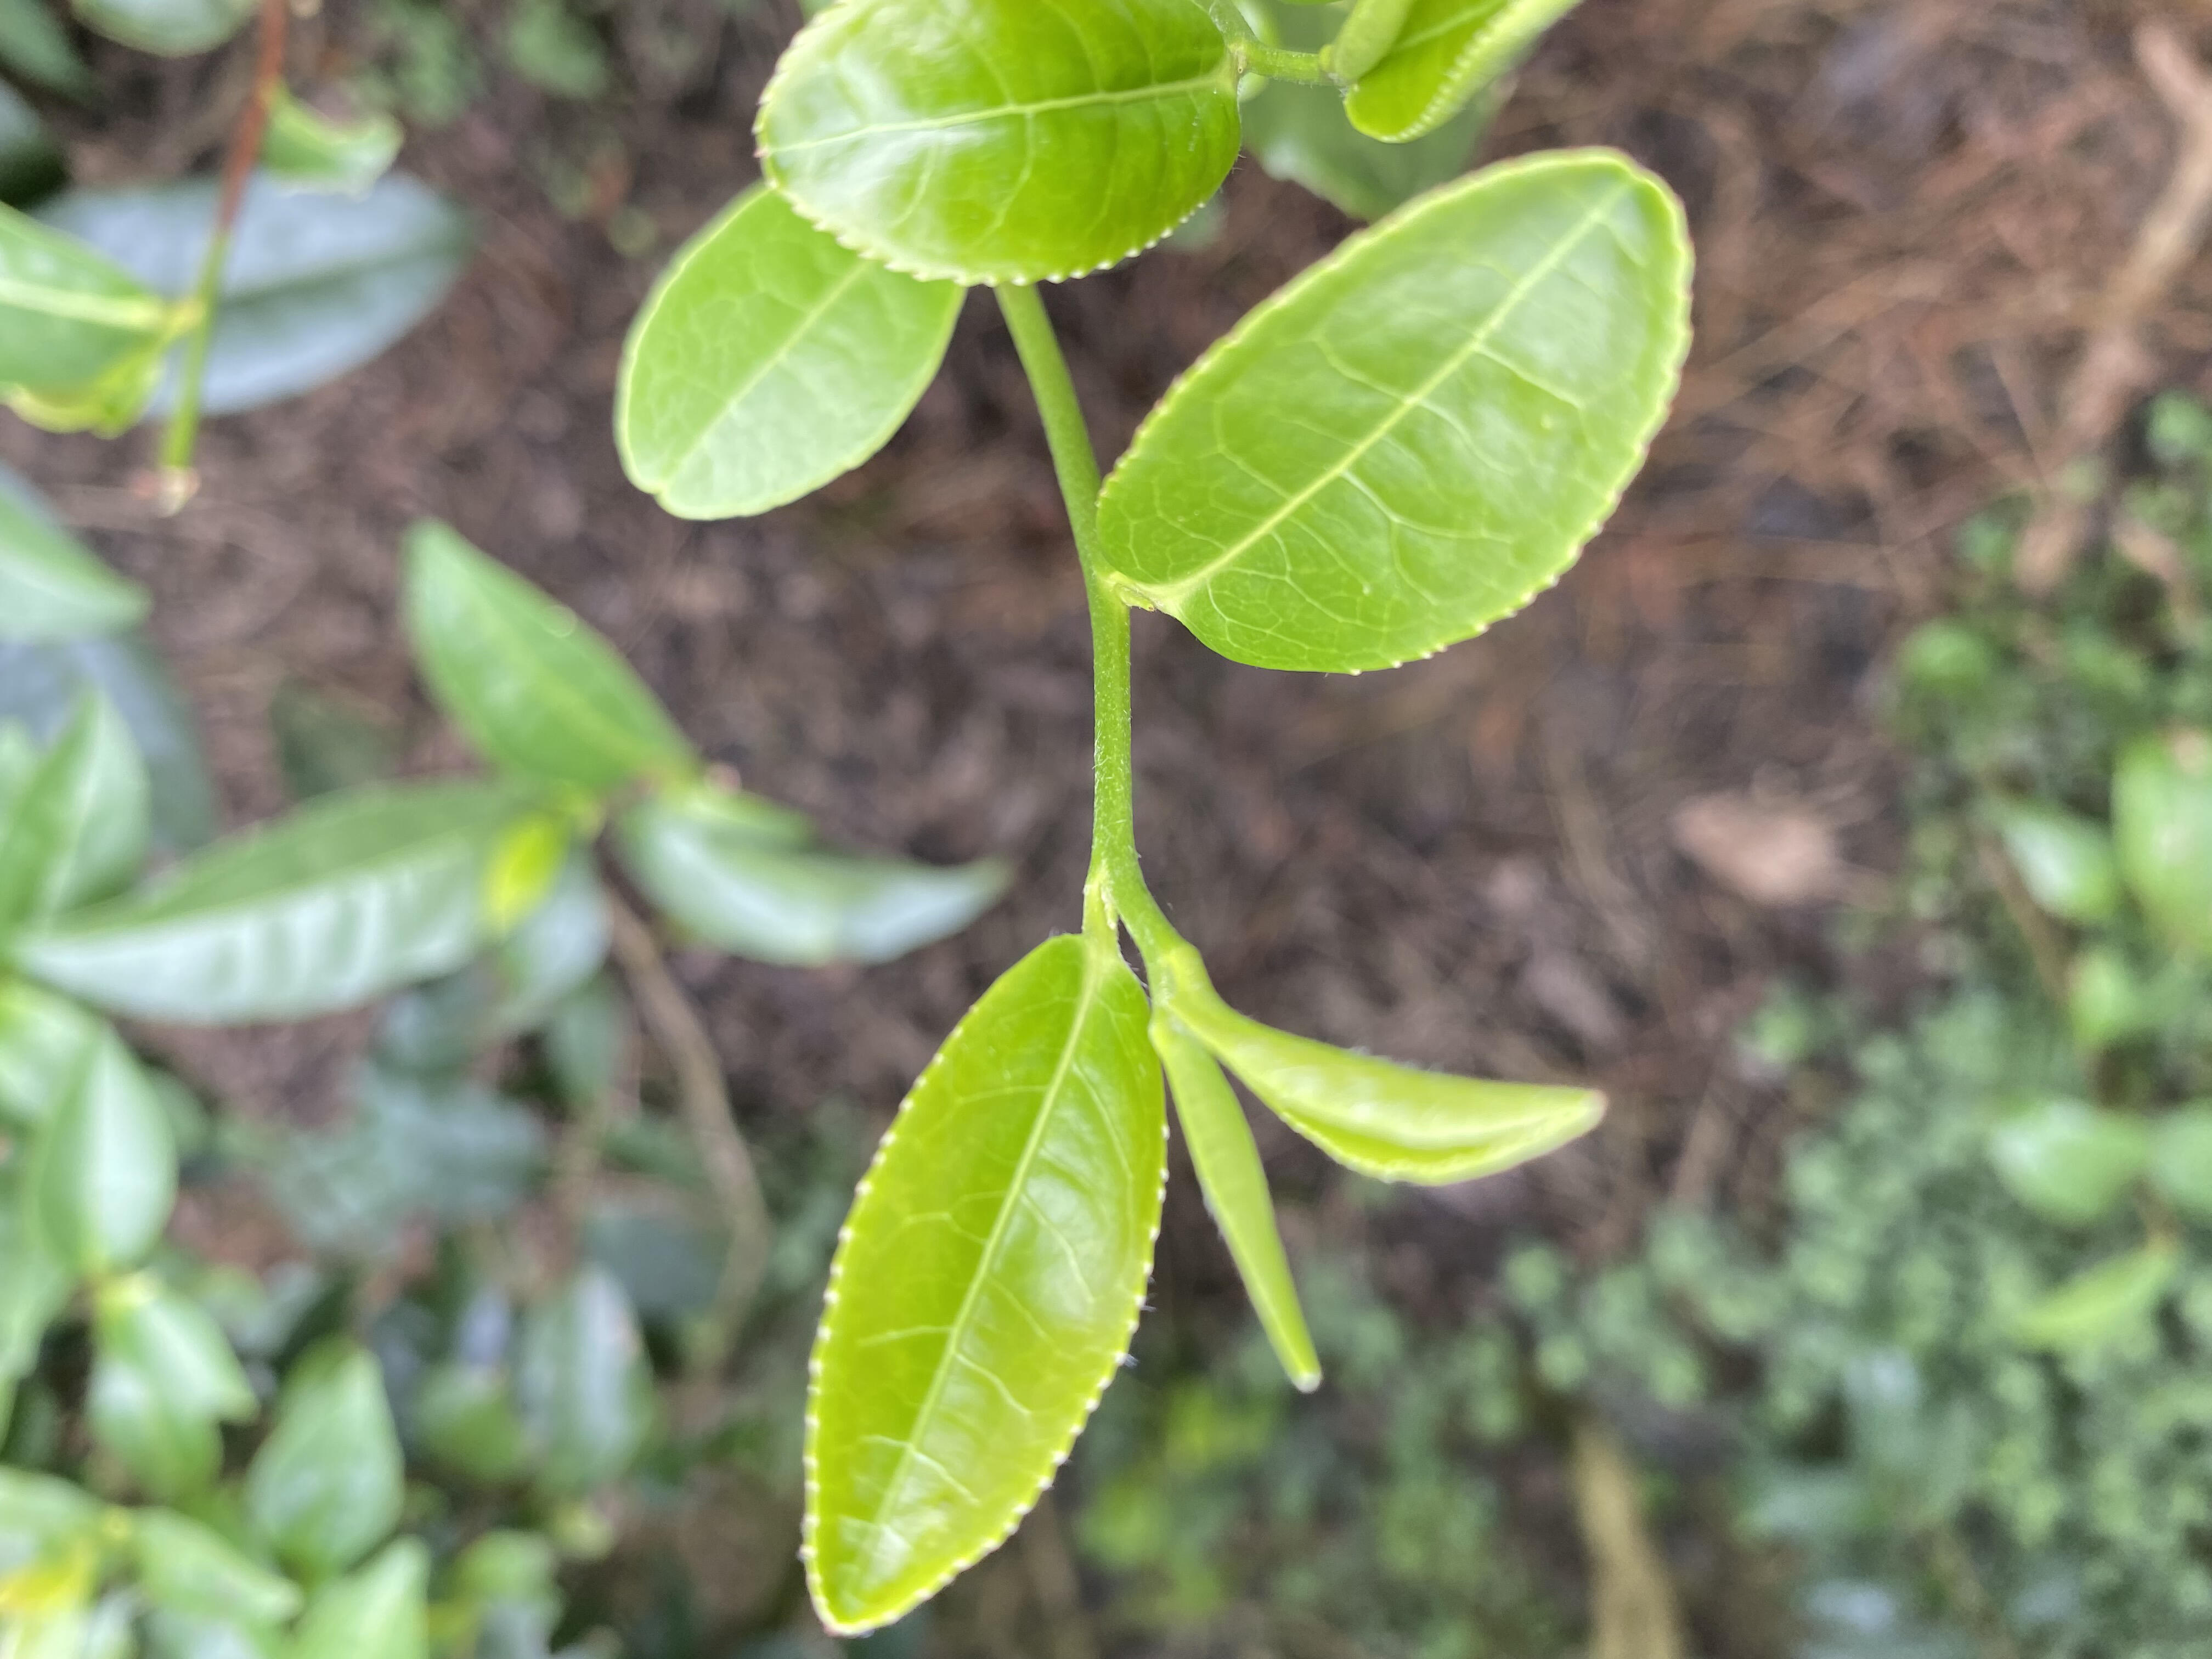healthy: (1092, 143, 1693, 676), (799, 936, 1172, 1629), (752, 3, 1244, 288), (610, 185, 970, 526)
